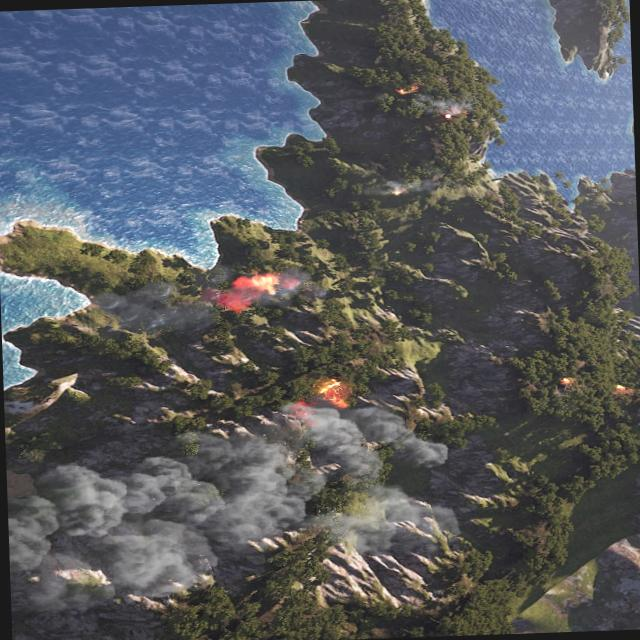fire: (222, 271, 285, 313), (312, 374, 351, 408), (393, 85, 421, 96), (558, 374, 578, 388), (608, 382, 628, 396), (442, 112, 454, 120), (390, 190, 402, 197)
smoke: (3, 398, 466, 616), (88, 264, 324, 340), (358, 177, 439, 201), (398, 95, 477, 116)
